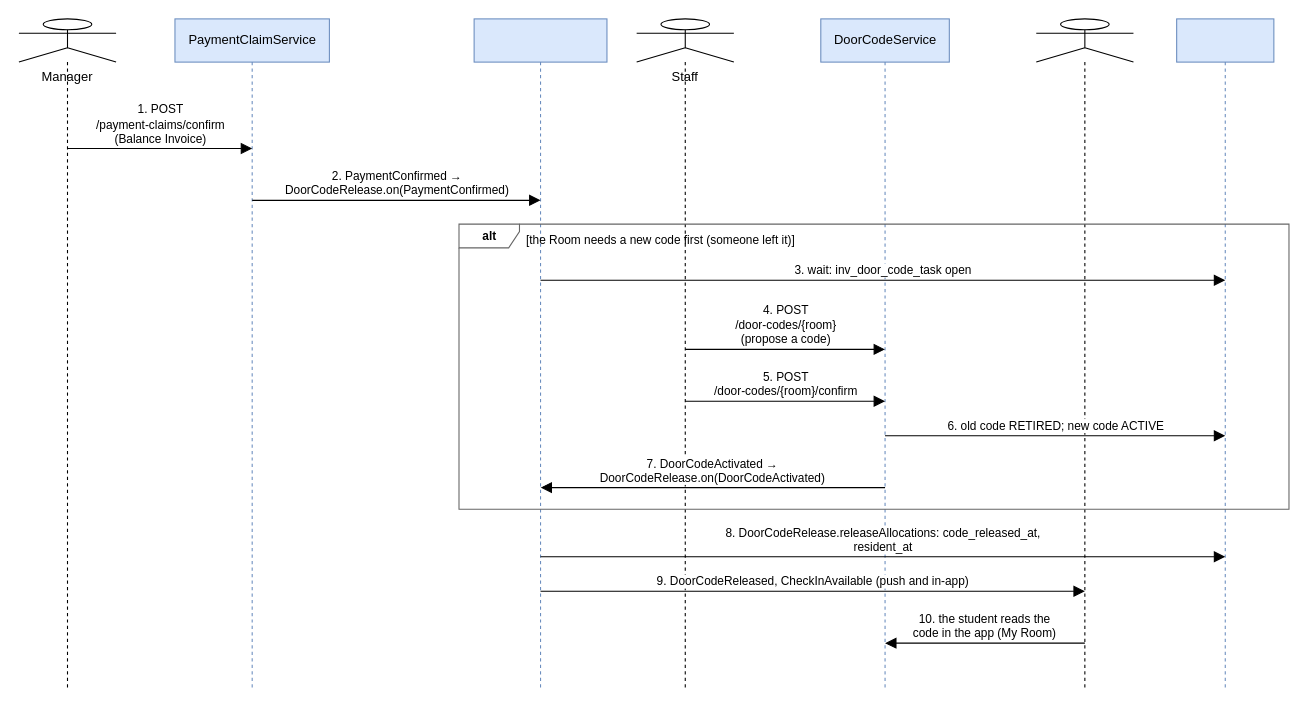
This 1308x710 diagram has some shape labels left out. The box of each missing label's shape, as (x1, y1, x2, y2) in pixels:
DoorCodeRelease: (473, 18, 607, 691)
PostgreSQL: (1176, 18, 1274, 691)
Student: (1035, 18, 1133, 691)
